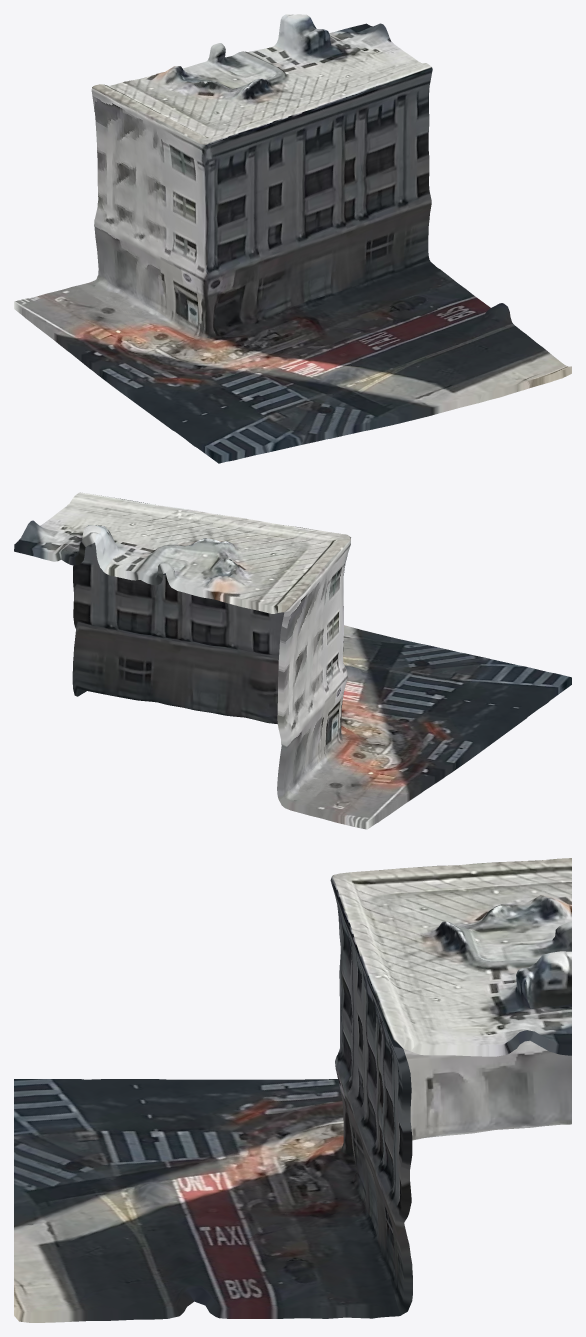
The model's file is z20-167751-405242-h0-yup-uvflip-v3-world.glb.
The picture shows the model from 3 angles, top to bottom: view 1: azimuth 30°, elevation 25°; view 2: azimuth 150°, elevation 25°; view 3: azimuth 270°, elevation 25°; orthographic projection. The views are drawn at different scales.
Bounding box in the file's own units: 30.2 × 19.44 × 30.32.
Materials: 1 (1 with a texture image).
